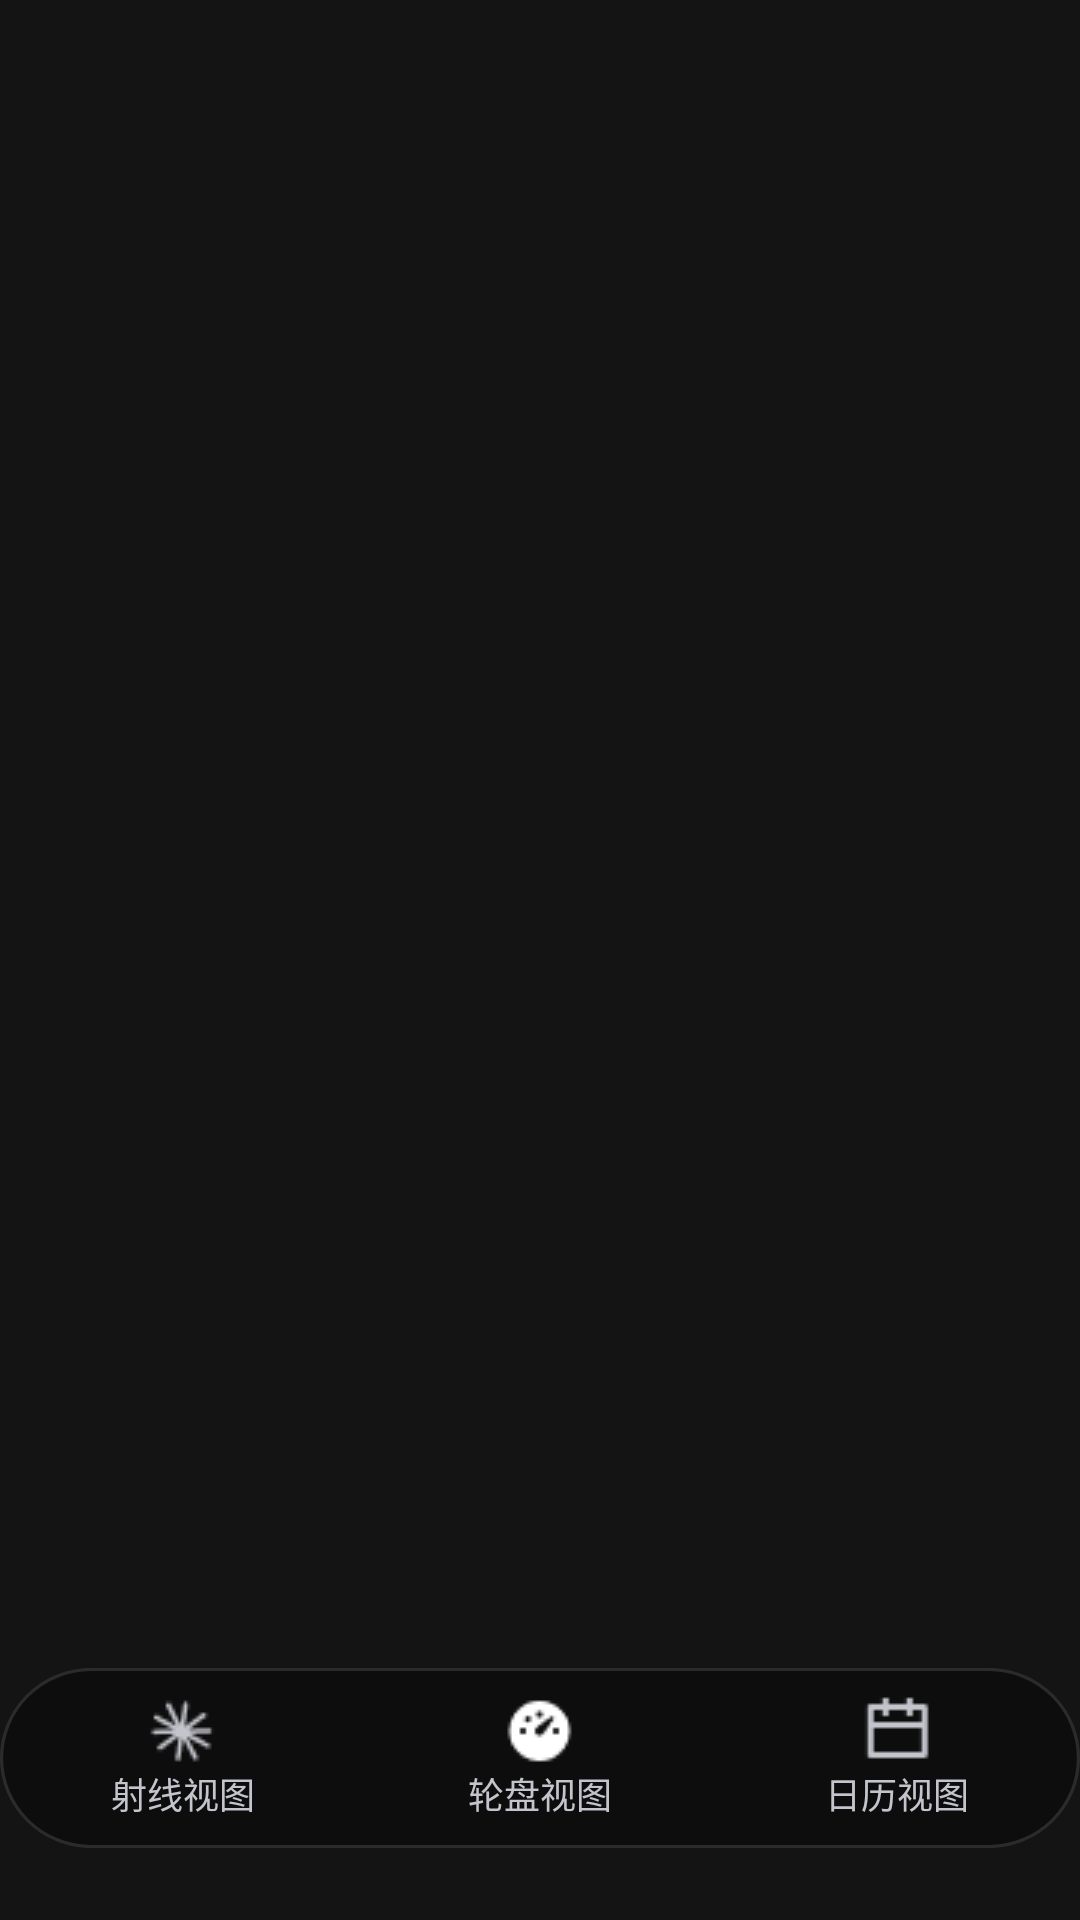

Icon bounding boxes for this 1080×1920 phone screenshot, format (x1, y1, x2, y2):
bottom circle: (507, 1700, 572, 1762)
